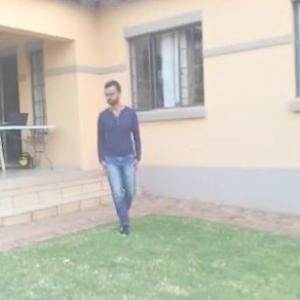follow: (94, 74, 142, 238)
